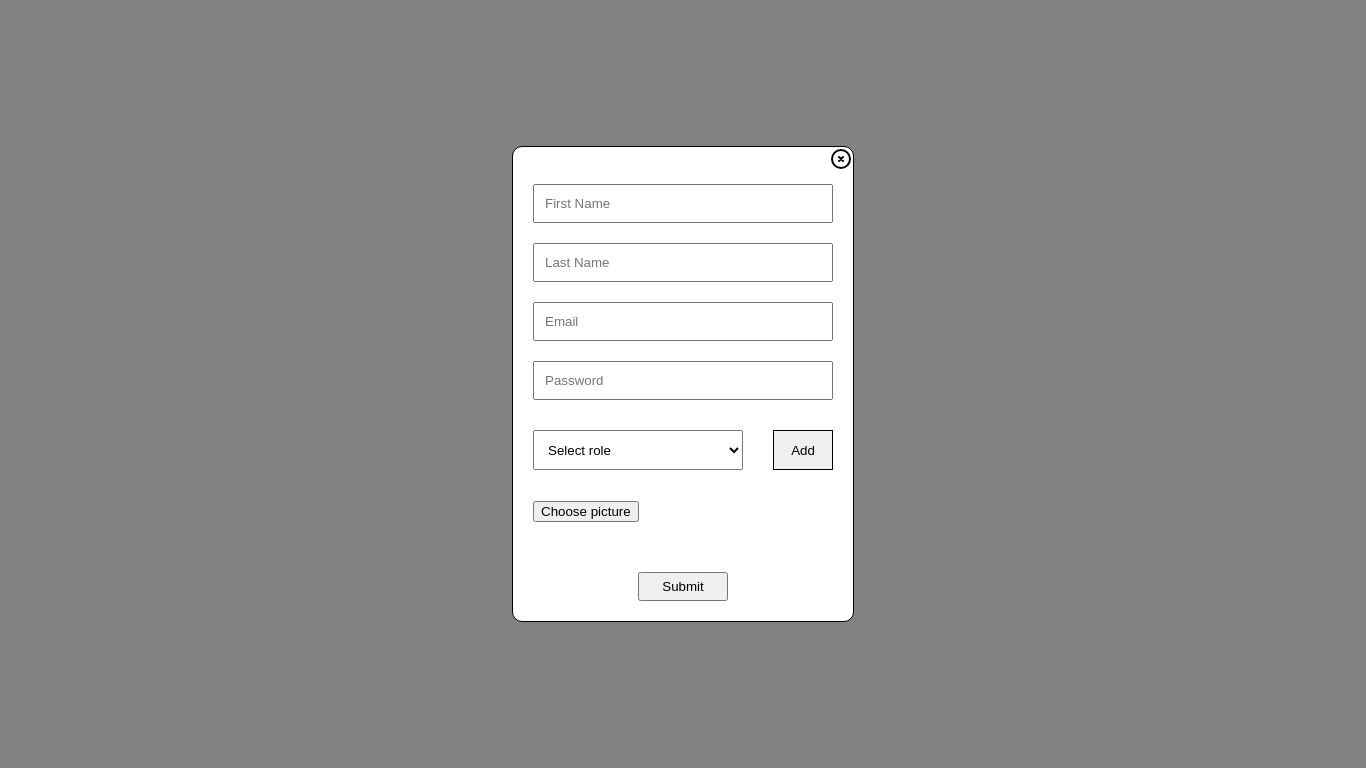
Test: validation › errors on empty inputs should be displayed
This screenshot has width=1366, height=768.
Check: the text "Specify first name" is not shown
Check: the text "Specify last name" is not shown
Click the button "Submit" at (683, 586), box x1=638 y1=572 x2=728 y2=601
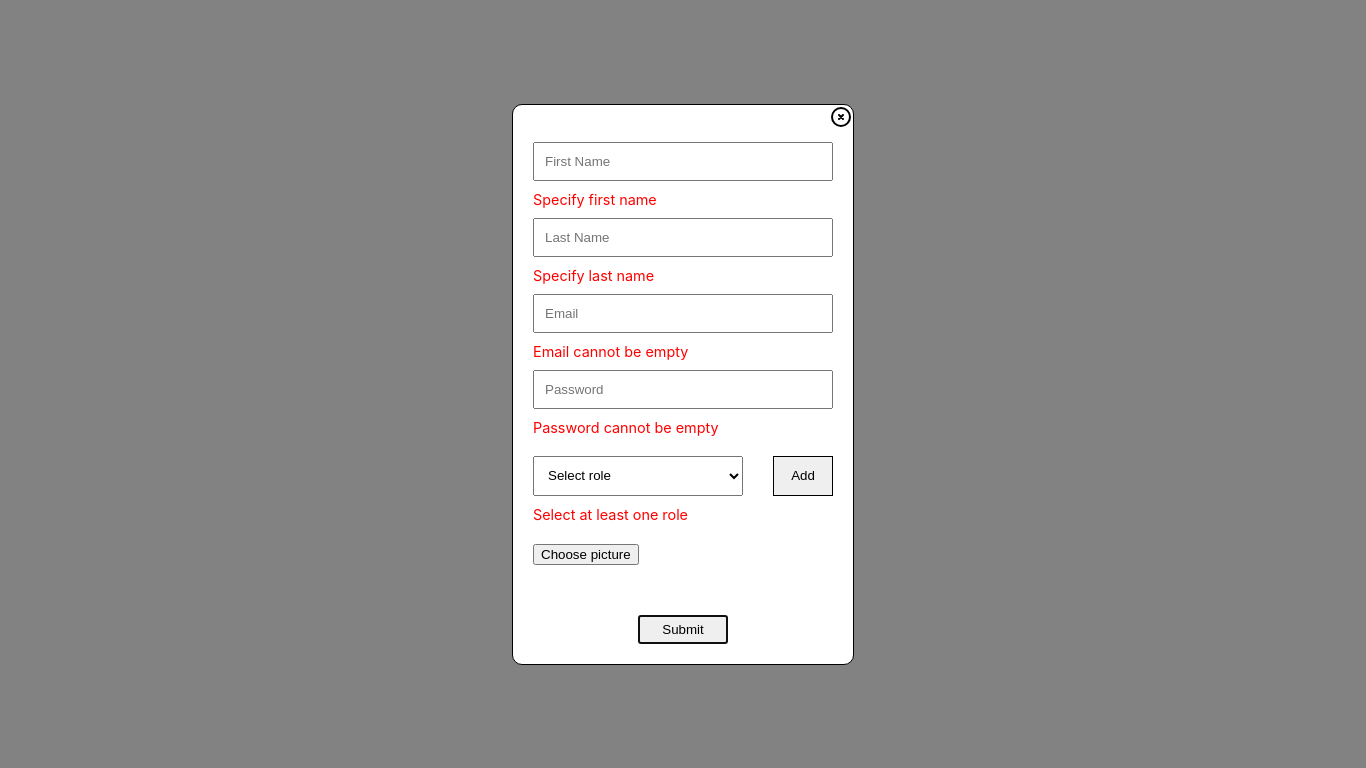
Check: the text "Specify first name" is shown, box x1=533 y1=190 x2=657 y2=208
Check: the text "Specify last name" is shown, box x1=533 y1=266 x2=654 y2=284
Check: the text "Select at least one role" is shown, box x1=533 y1=506 x2=688 y2=522
